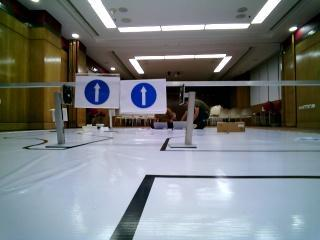straight: (121, 78, 165, 108), (77, 75, 118, 106)
